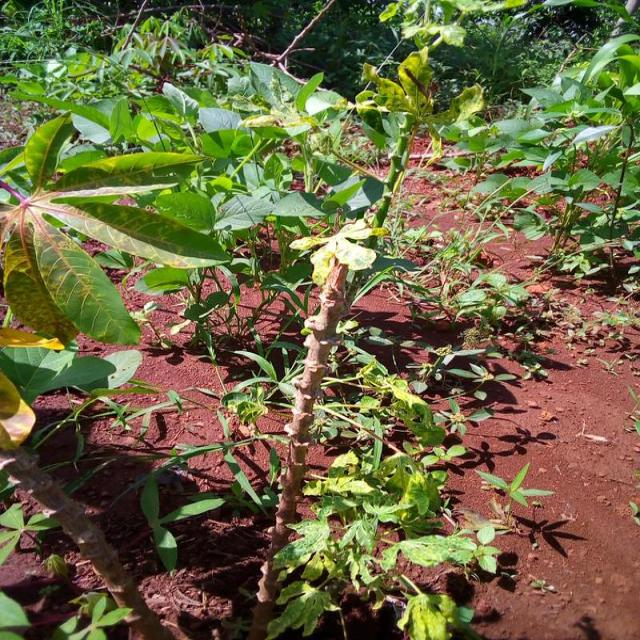cassava leaf: (30, 220, 141, 346)
